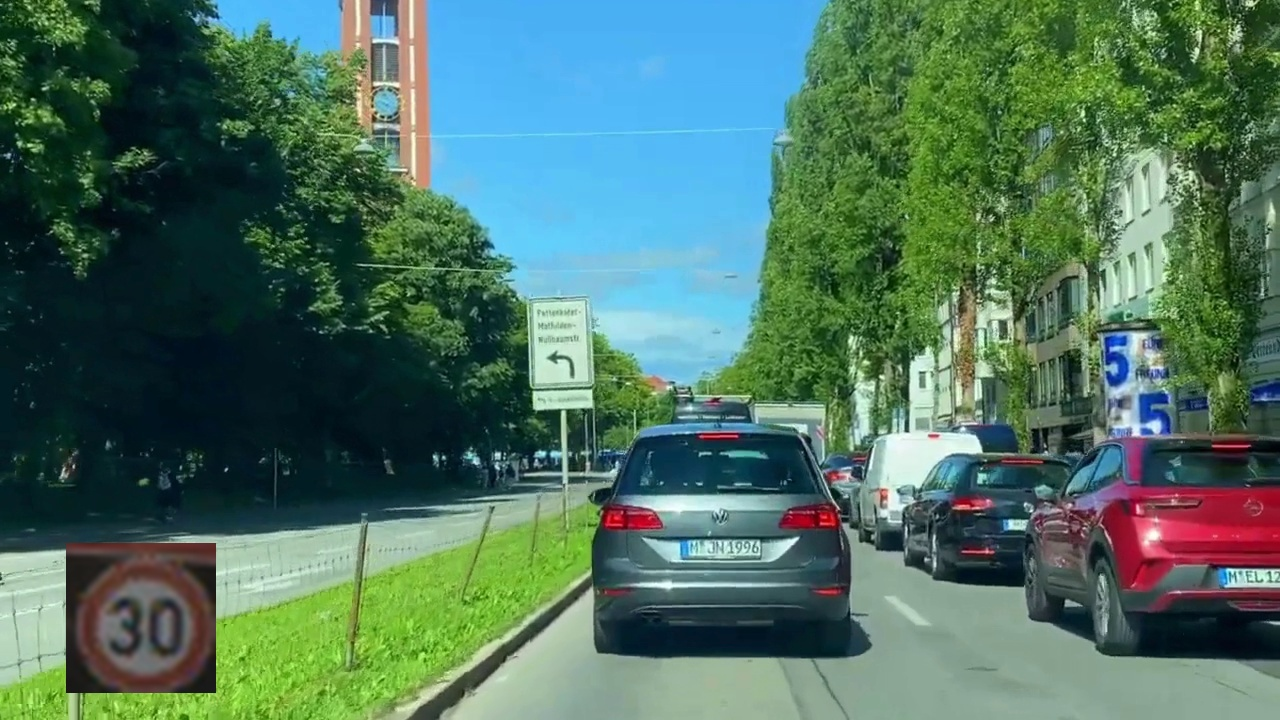Speed 30: (66, 543, 216, 693)
